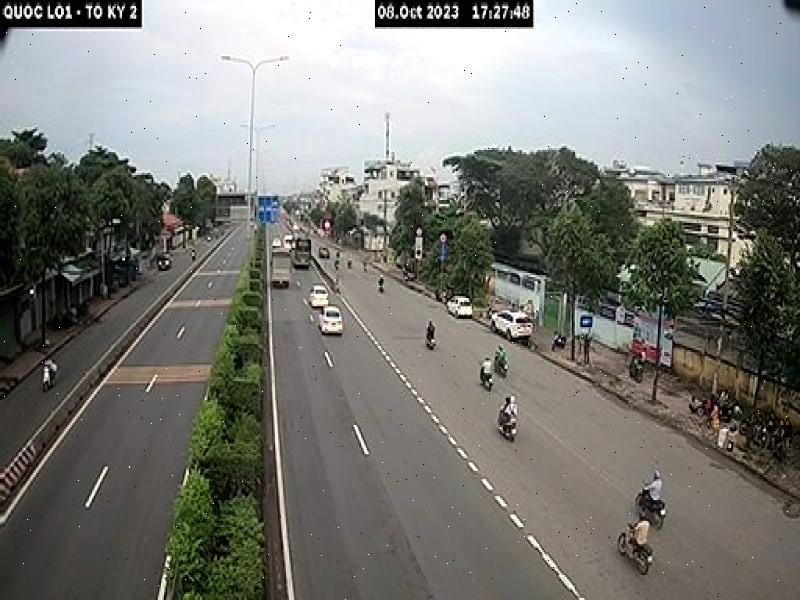car: (494, 312, 535, 341), (315, 306, 343, 336), (305, 282, 331, 311), (448, 294, 475, 318)
motorcycle: (608, 518, 668, 586), (628, 471, 679, 543), (500, 420, 518, 441)
truck: (269, 246, 296, 295), (290, 232, 315, 273)
